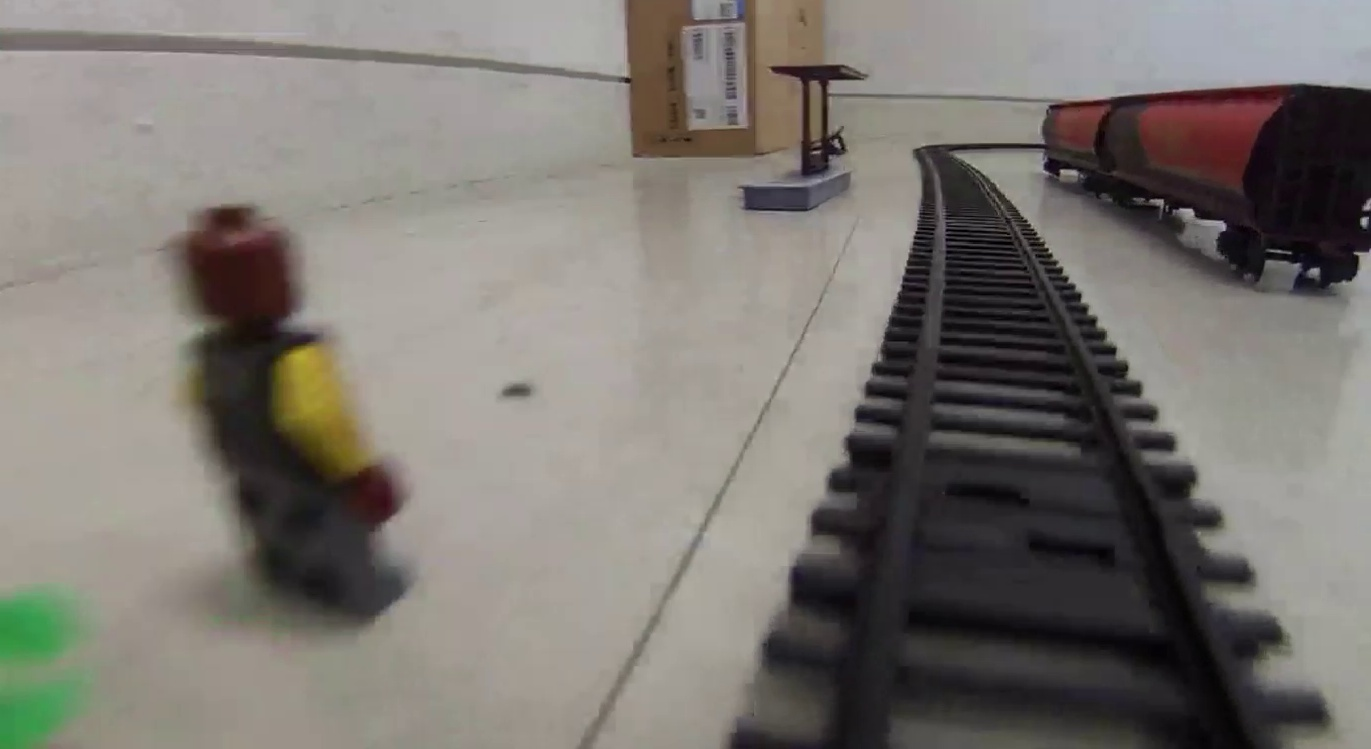people: (172, 207, 406, 632)
